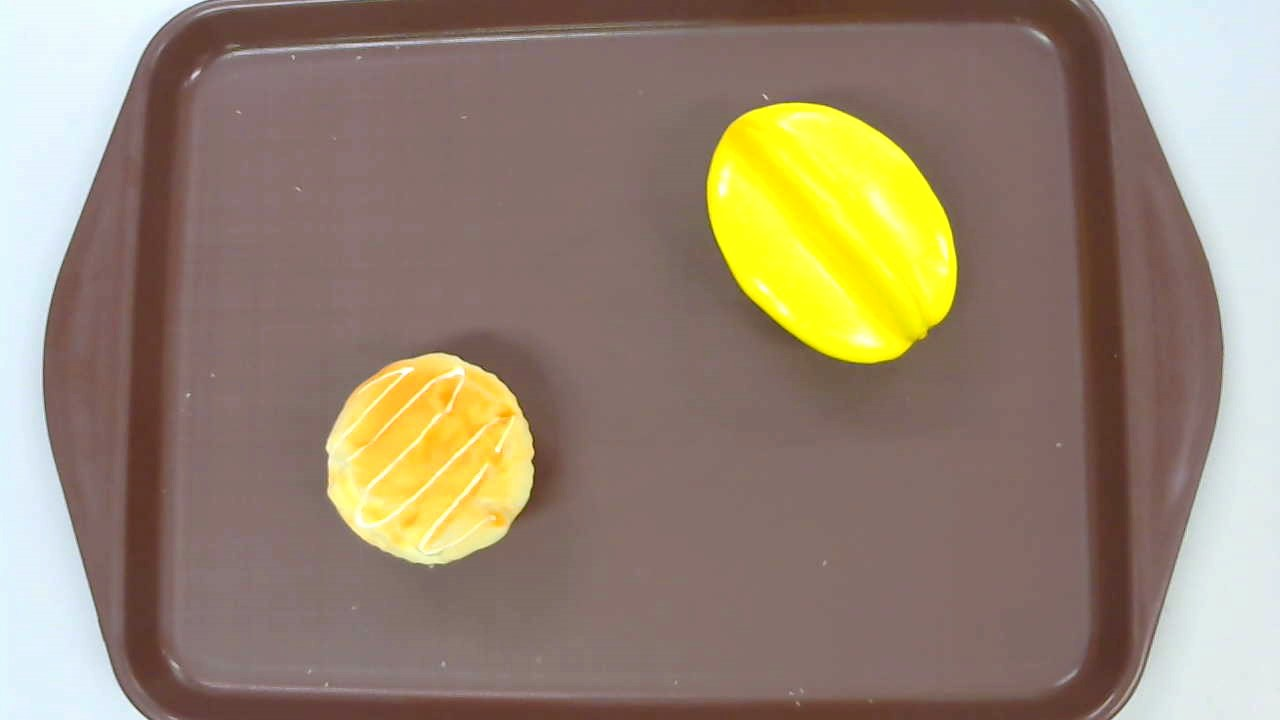cupcake: (326, 351, 535, 565)
star fruit: (706, 103, 959, 364)
